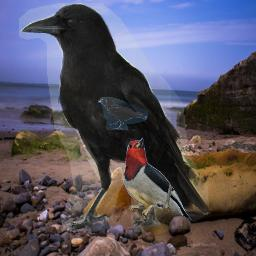Crow: (19, 3, 211, 232), (98, 97, 148, 130)
Woodpecker: (120, 134, 195, 229)
